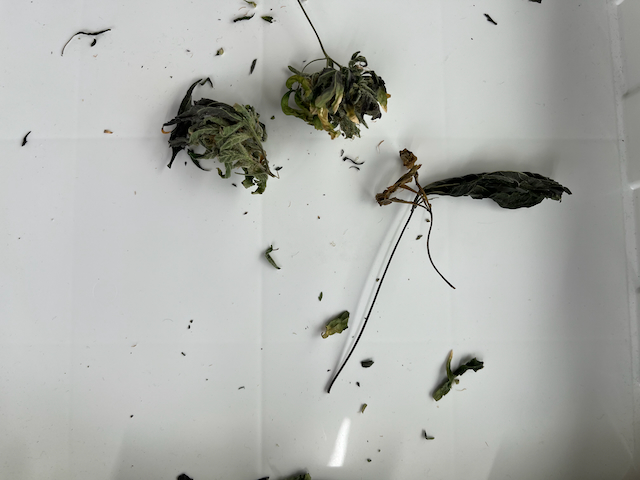Bud: (294, 62, 388, 136), (192, 100, 270, 182)
Leaf: (425, 161, 580, 214)
Stem: (319, 208, 415, 428), (421, 211, 461, 291)
